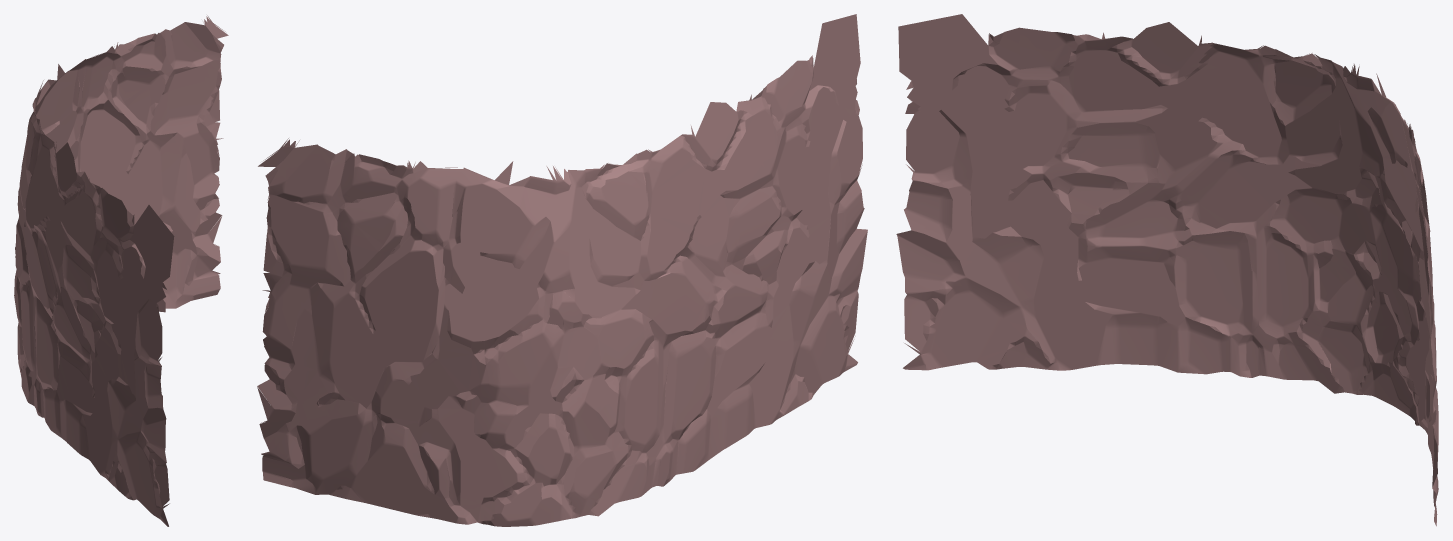
Rendered from mini_canyon.fbx_Cube__12__017LODs.fbx.
The picture shows the model from 3 angles, left to right: view 1: azimuth 30°, elevation 25°; view 2: azimuth 150°, elevation 25°; view 3: azimuth 270°, elevation 25°; orthographic projection. The views are drawn at different scales.
Parts seen in each view (by area): view 1: Cube (12).017_LOD0; view 2: Cube (12).017_LOD0; view 3: Cube (12).017_LOD0.
Boxes of the visible parts, box(x1,y1,x2,y2) form: Cube (12).017_LOD0: box(14, 15, 228, 526); Cube (12).017_LOD0: box(257, 14, 867, 526); Cube (12).017_LOD0: box(896, 14, 1438, 526).
Size of what is drawn, in the model's own units: 4673 by 4730 by 6420.
